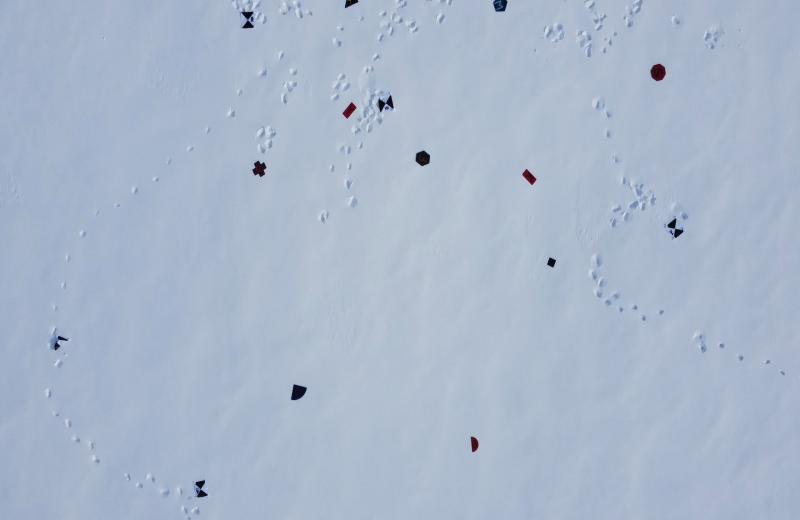Cross: (251, 158, 268, 177)
Hexagon: (414, 148, 432, 166)
Octagon: (650, 62, 666, 84)
Pentagon: (493, 0, 508, 12)
Quarter Circle: (288, 383, 308, 403)
Rectangle: (341, 99, 359, 120), (521, 168, 537, 188)
Semi Circle: (468, 434, 480, 454)
Square: (546, 255, 557, 270)
Triangle: (343, 0, 360, 10)
